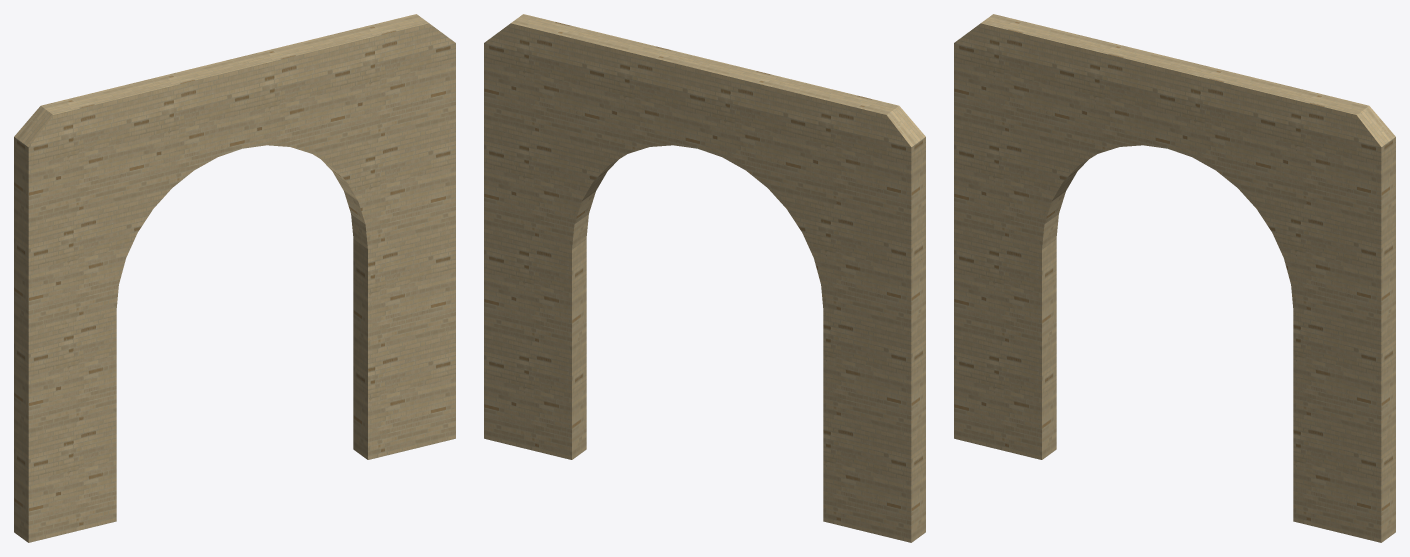
The model's file is atrio_arco_entrada.obj.
3 views of the same model, side by side, from view 1: azimuth 30°, elevation 25°; view 2: azimuth 150°, elevation 25°; view 3: azimuth 330°, elevation 25° (orthographic).
Visible parts, largest first — view 1: arco; view 2: arco; view 3: arco.
Boxes of the visible parts, x1,y1,x2,y2 form: arco: (14,14,455,542); arco: (484,14,925,542); arco: (954,14,1395,542).
Size of the model in its own units: 8.5 by 8 by 0.5.
1 material, 1 textured.
